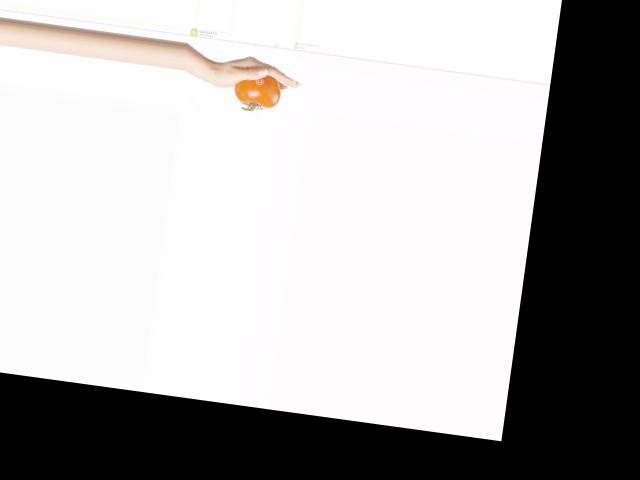tomato: (232, 71, 283, 109)
